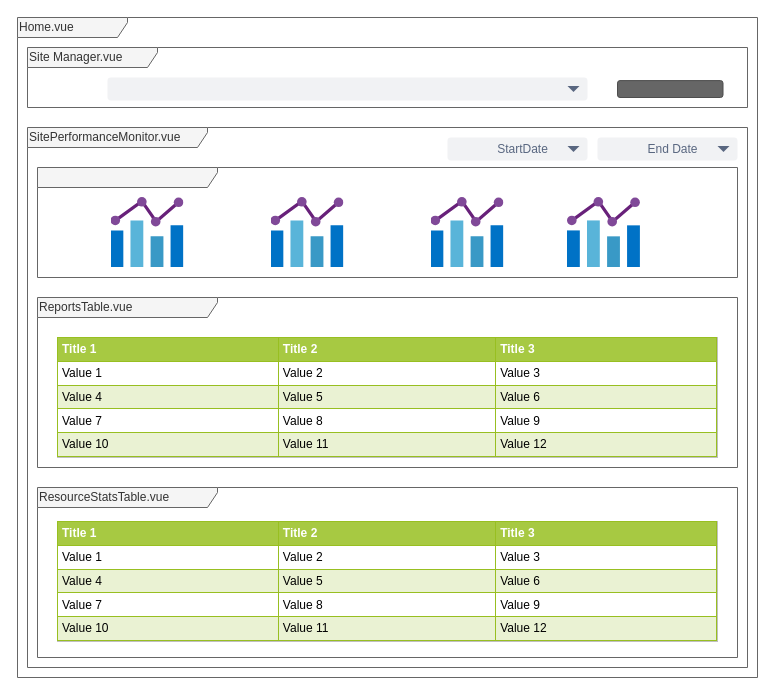
The diagram is 775 pixels wide and 695 high, and some of its shapes have lost their labels. Each missing label, with the box of its shape:
Add Site: (616, 80, 723, 98)
ChartMonitor.vue: (36, 166, 738, 278)
Select site: (107, 77, 587, 100)
